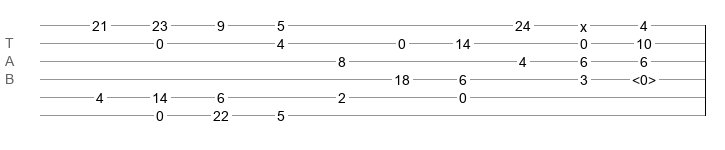0: (156, 36, 164, 46), (156, 108, 164, 118), (398, 36, 406, 46), (459, 90, 467, 100), (580, 36, 588, 46)
10: (636, 36, 652, 46)
14: (152, 90, 168, 100), (455, 36, 471, 46)
18: (394, 72, 410, 82)
2: (338, 90, 346, 100)
21: (92, 18, 108, 28)
22: (213, 108, 229, 118)
23: (152, 18, 168, 28)
24: (515, 18, 531, 28)
3: (580, 72, 588, 82)
4: (96, 90, 104, 100), (277, 36, 285, 46), (519, 54, 527, 64), (640, 18, 648, 28)
5: (277, 108, 285, 118), (277, 18, 285, 28)
6: (217, 90, 225, 100), (459, 72, 467, 82), (580, 54, 588, 64), (640, 54, 648, 64)
8: (338, 54, 346, 64)
9: (217, 18, 225, 28)
harmonic: (632, 72, 656, 82)
x: (580, 19, 587, 27)
